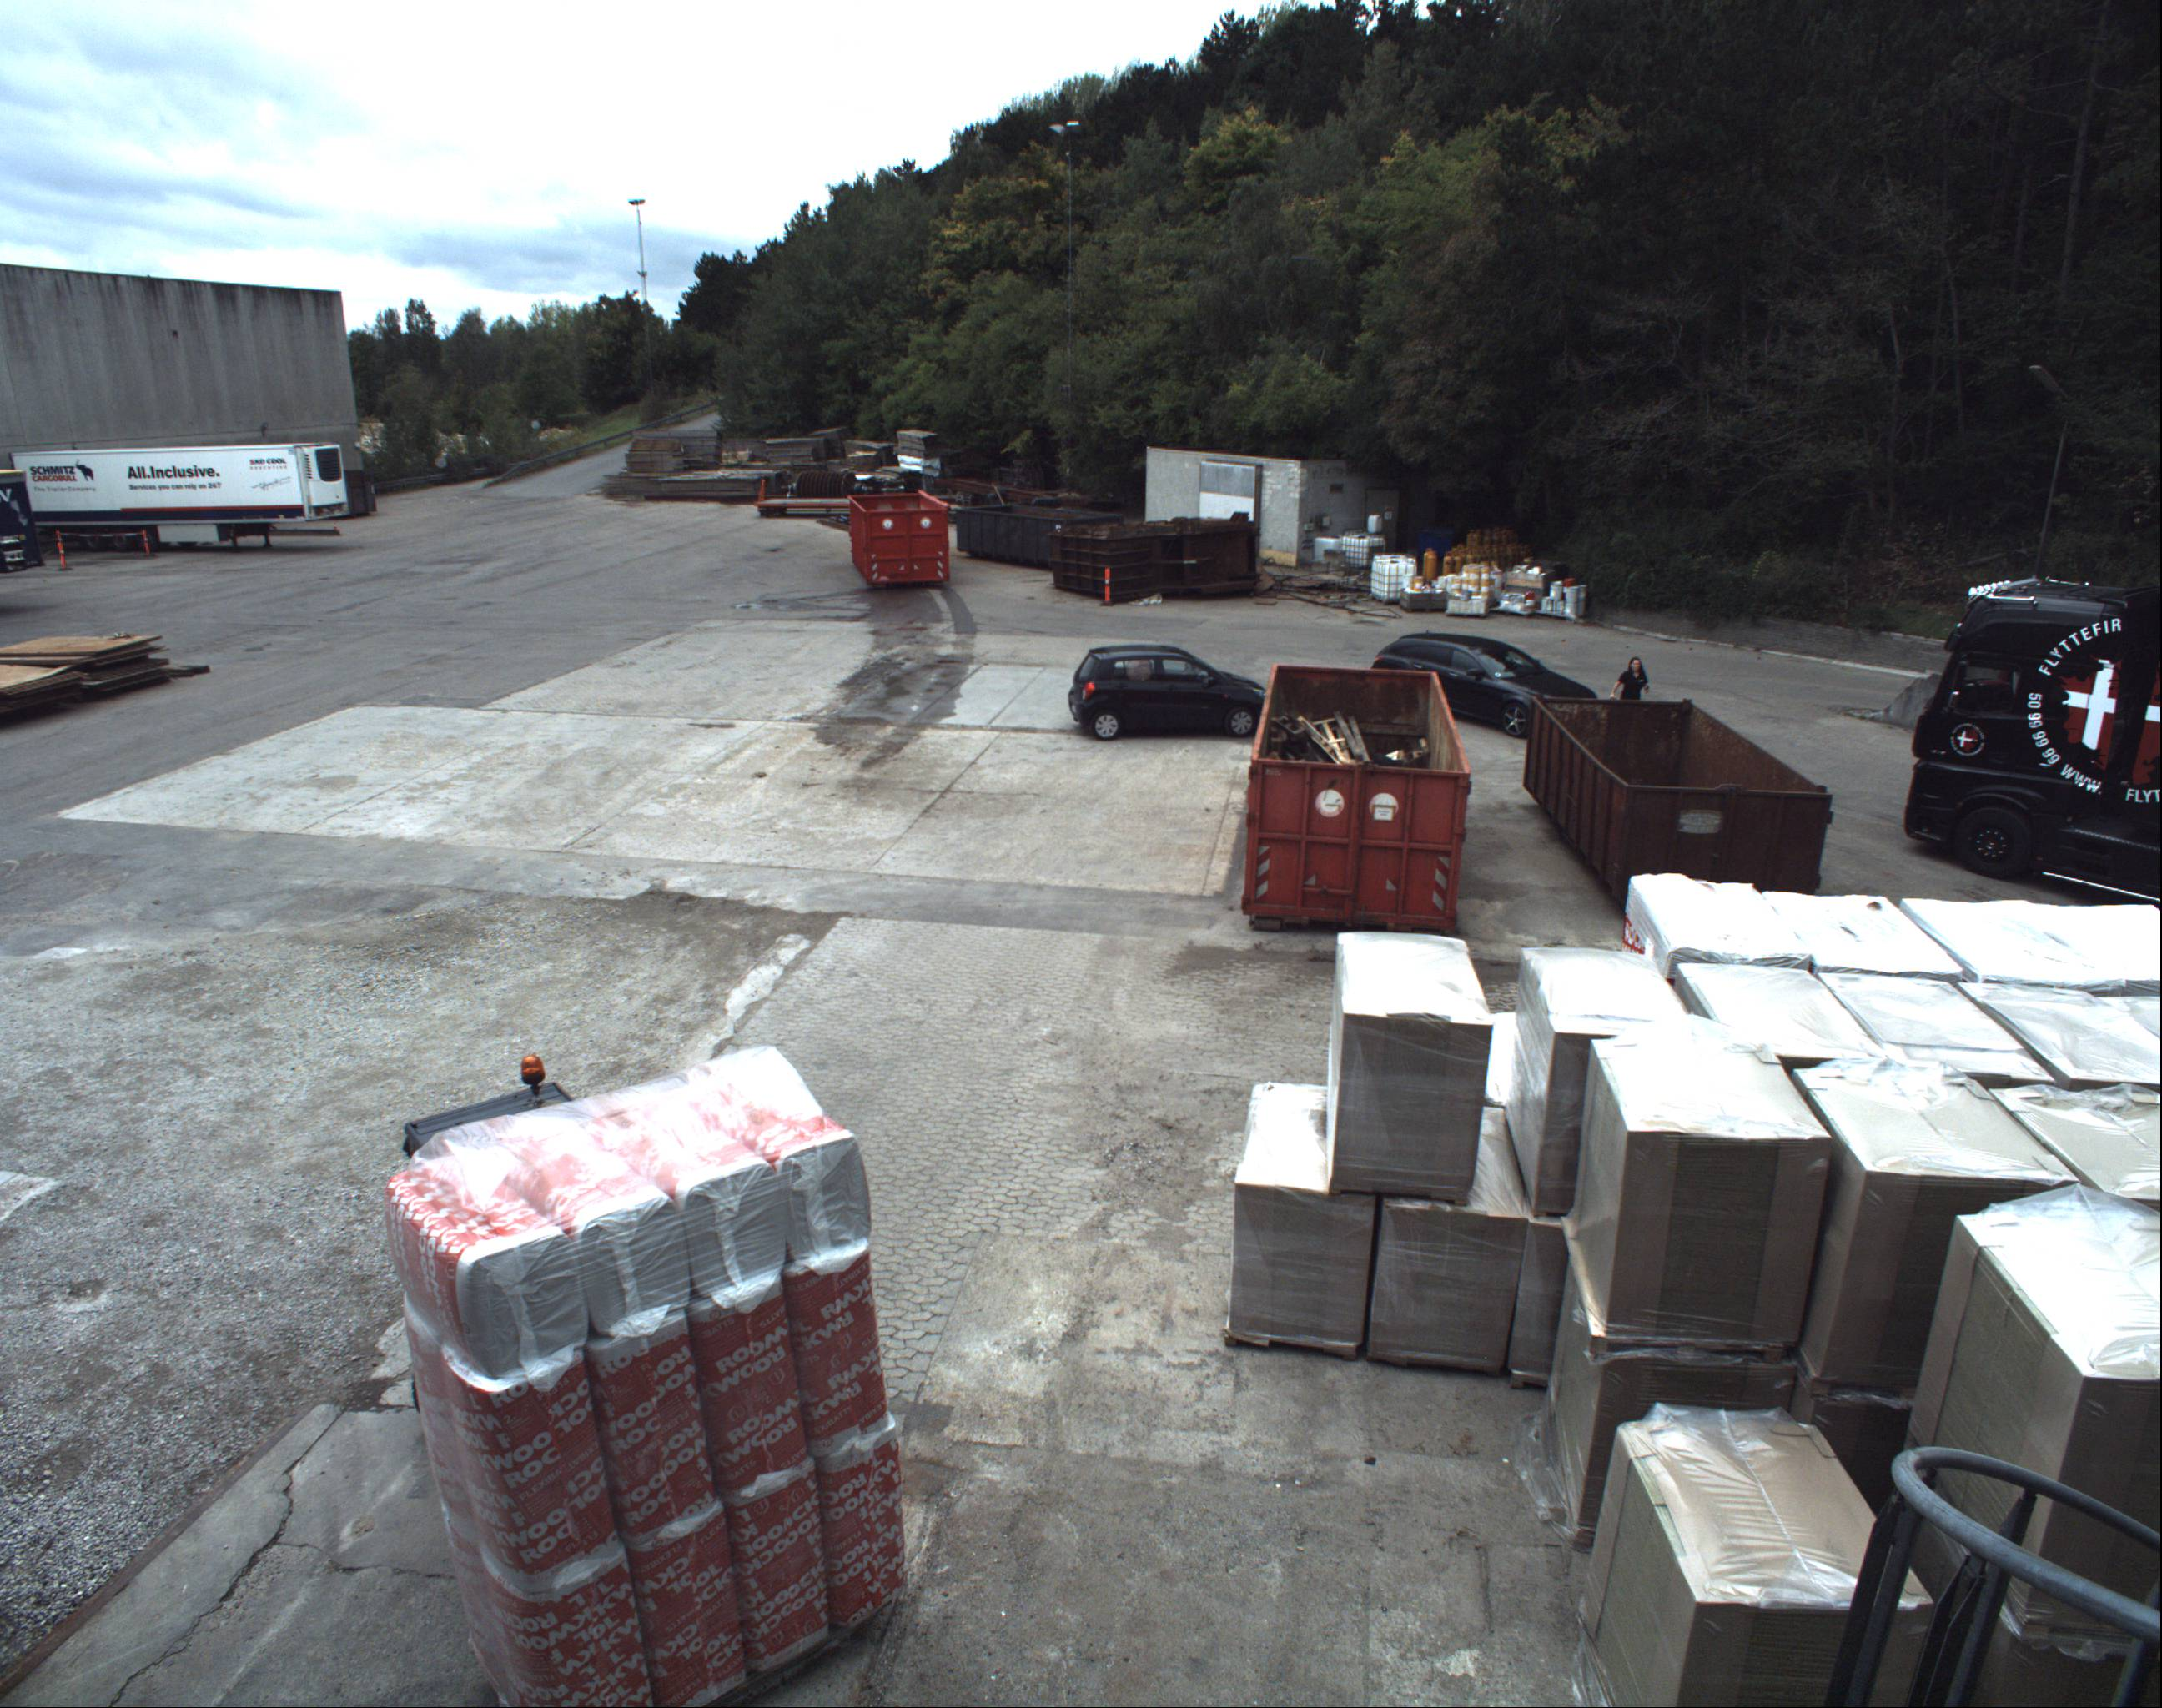rockwool_batts: (391, 1027, 897, 1706)
